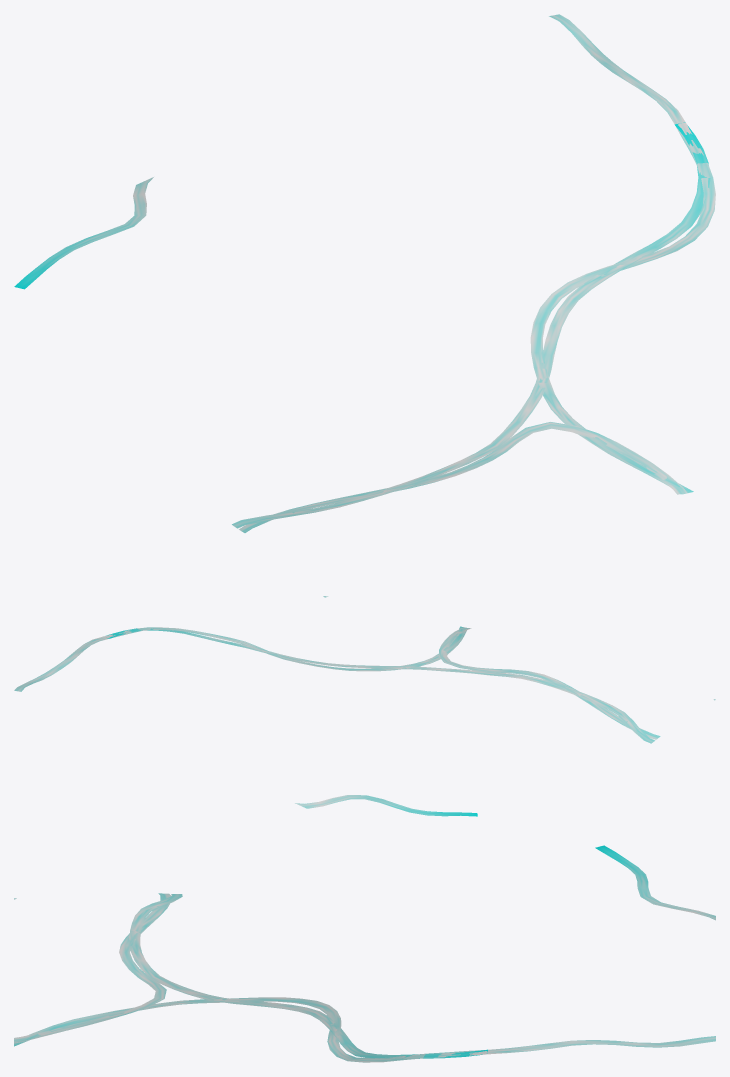
3 renders of one model, top to bottom at view 1: azimuth 30°, elevation 25°; view 2: azimuth 150°, elevation 25°; view 3: azimuth 270°, elevation 25°, orthographic. The views are drawn at different scales.
Visible parts, largest first — view 1: SpaceCenter_Long3_GenerateRoad_Sand_TireTracks_Width_Mesh_x1; view 2: SpaceCenter_Long3_GenerateRoad_Sand_TireTracks_Width_Mesh_x1; view 3: SpaceCenter_Long3_GenerateRoad_Sand_TireTracks_Width_Mesh_x1.
Boxes of the visible parts, x1=… form: SpaceCenter_Long3_GenerateRoad_Sand_TireTracks_Width_Mesh_x1: x1=14, y1=14, x2=715, y2=597; SpaceCenter_Long3_GenerateRoad_Sand_TireTracks_Width_Mesh_x1: x1=14, y1=626, x2=715, y2=816; SpaceCenter_Long3_GenerateRoad_Sand_TireTracks_Width_Mesh_x1: x1=14, y1=845, x2=715, y2=1062.
Size of the model in its own units: 2304 by 2142 by 479.
